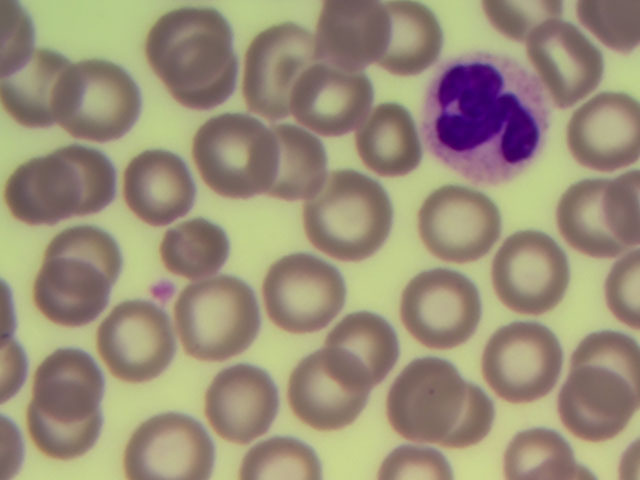Platelets: (149, 276, 181, 313)
RBC: (62, 57, 143, 141), (51, 138, 132, 222), (121, 149, 202, 233), (148, 196, 229, 280), (52, 207, 133, 291), (31, 257, 112, 341), (94, 302, 175, 386), (27, 331, 108, 415), (25, 390, 106, 474), (137, 396, 218, 480), (200, 357, 281, 441), (183, 275, 264, 359), (271, 250, 352, 334), (315, 176, 396, 260), (263, 123, 344, 207), (189, 113, 270, 197), (166, 39, 247, 123), (151, 3, 232, 87), (245, 27, 326, 111), (284, 55, 365, 139), (345, 96, 426, 180), (316, 3, 397, 87), (528, 19, 609, 103), (559, 87, 640, 171), (551, 172, 632, 256), (487, 228, 568, 312), (423, 186, 504, 270), (402, 267, 483, 351), (325, 302, 406, 386), (288, 347, 369, 431), (384, 357, 465, 441), (428, 371, 509, 455), (483, 318, 564, 402), (546, 370, 627, 454), (559, 322, 640, 406), (355, 1, 436, 84), (1, 145, 81, 229)
WBC: (423, 51, 549, 184)
